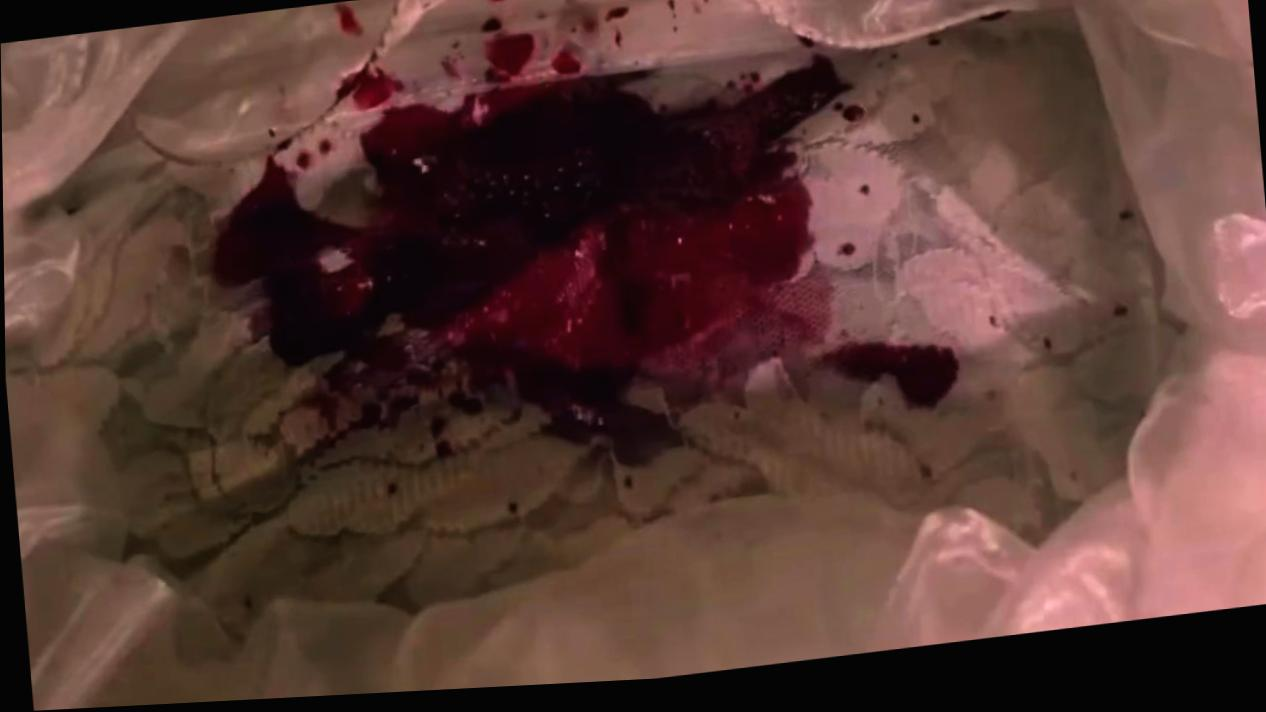Fire: (185, 0, 1164, 616)
